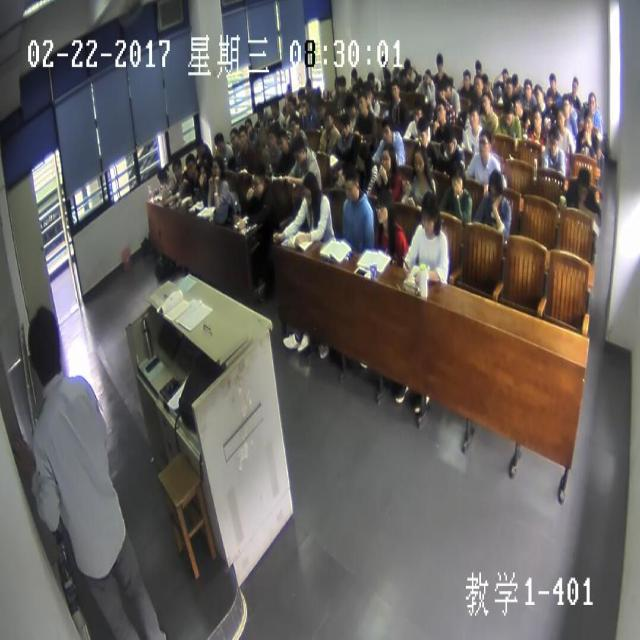person: (26, 304, 60, 378), (420, 191, 437, 234), (343, 168, 359, 202), (302, 173, 319, 204), (449, 161, 465, 193), (376, 190, 392, 221), (487, 170, 502, 202), (411, 146, 426, 175), (250, 167, 266, 194), (291, 135, 306, 163), (577, 170, 590, 200), (477, 130, 491, 157), (442, 128, 456, 155), (415, 116, 428, 144), (412, 93, 424, 122), (546, 127, 558, 156), (380, 117, 393, 143), (381, 144, 394, 170), (355, 144, 369, 168), (466, 104, 479, 127), (184, 152, 196, 176), (209, 157, 222, 179), (196, 162, 208, 185), (322, 110, 334, 133), (344, 92, 355, 117), (434, 100, 445, 123), (582, 108, 592, 132), (236, 122, 246, 145), (277, 129, 287, 152), (522, 78, 532, 101), (361, 82, 372, 102), (472, 74, 482, 96), (171, 156, 181, 177), (228, 125, 238, 146), (357, 92, 366, 115), (156, 167, 168, 184), (349, 135, 361, 152), (214, 130, 224, 150), (269, 96, 279, 116), (340, 114, 350, 134), (441, 76, 451, 96), (480, 92, 490, 112), (532, 108, 542, 128), (561, 92, 570, 114), (289, 115, 299, 134), (434, 52, 444, 71), (556, 109, 566, 128), (480, 71, 489, 92), (422, 68, 432, 86), (504, 76, 513, 96), (436, 82, 445, 101), (587, 92, 596, 111), (462, 67, 470, 88), (267, 128, 276, 146), (390, 78, 399, 96), (503, 107, 512, 125), (534, 84, 542, 104), (510, 73, 519, 90), (547, 73, 556, 90), (296, 87, 306, 102), (195, 139, 204, 155), (243, 118, 252, 134), (299, 98, 308, 114), (336, 76, 345, 92), (511, 98, 520, 114), (521, 110, 530, 126), (545, 87, 553, 105), (316, 100, 324, 117), (350, 66, 357, 85), (571, 76, 578, 95), (255, 101, 263, 117), (286, 100, 294, 114), (366, 71, 374, 85), (402, 57, 410, 71), (474, 60, 481, 76), (399, 69, 406, 84), (380, 55, 387, 69), (392, 56, 399, 70), (501, 68, 508, 81), (304, 80, 310, 94), (285, 83, 290, 91)
